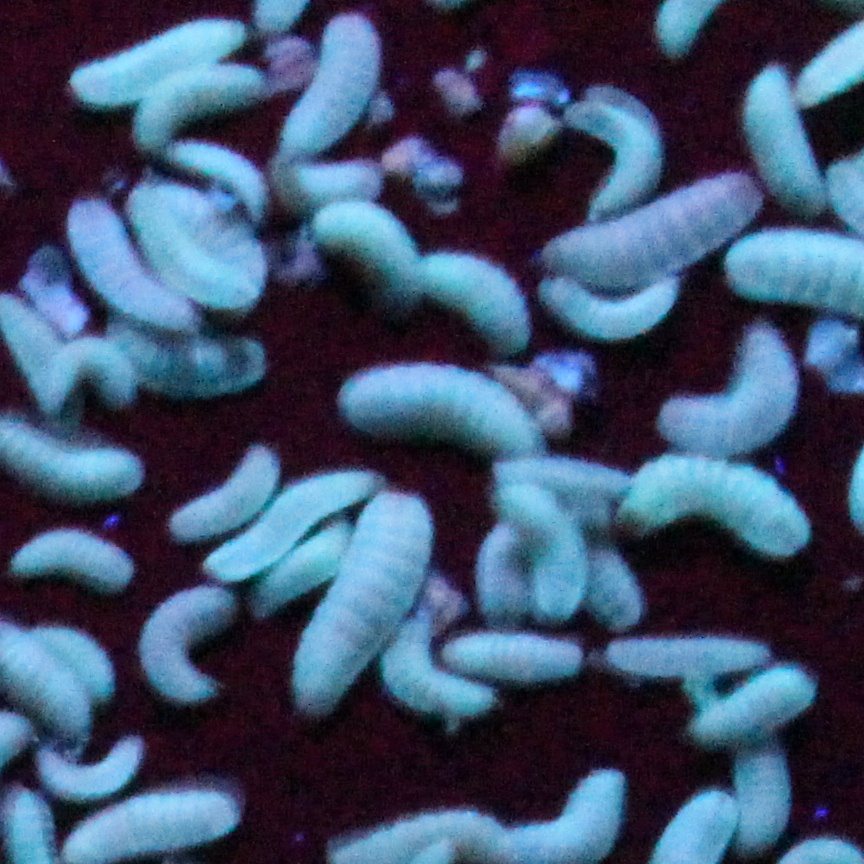larve: (293, 494, 426, 704), (332, 362, 542, 452), (660, 335, 801, 449), (546, 188, 758, 263), (230, 467, 369, 576), (66, 204, 187, 329), (282, 20, 394, 153), (489, 483, 598, 616), (71, 15, 241, 99), (742, 68, 835, 217), (385, 604, 491, 731), (99, 320, 258, 404), (622, 465, 798, 534), (309, 204, 429, 304), (560, 90, 665, 201), (537, 270, 691, 341), (141, 584, 228, 707), (435, 248, 533, 352), (134, 71, 269, 145), (170, 442, 272, 536), (445, 631, 590, 693), (690, 677, 820, 746), (518, 790, 634, 863), (2, 528, 134, 590), (597, 635, 771, 681), (39, 748, 139, 793)
